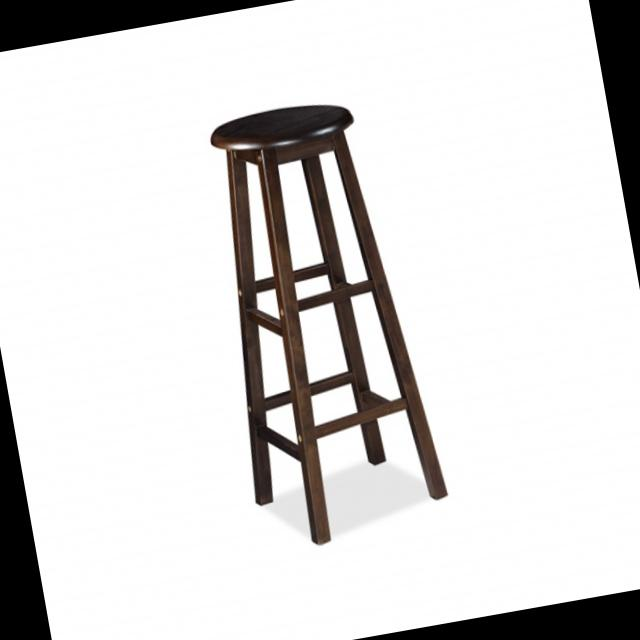Chair: (184, 87, 453, 560)
